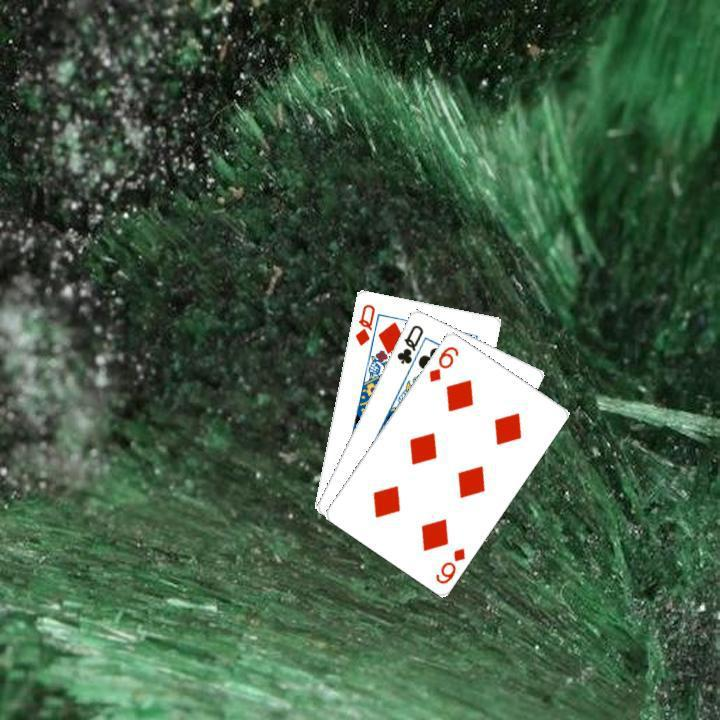6: (424, 341, 461, 384), (431, 543, 467, 586)
Q: (392, 320, 425, 366), (350, 299, 377, 347)
